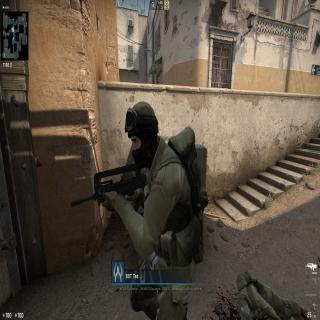CT-Head: (124, 99, 160, 168)
